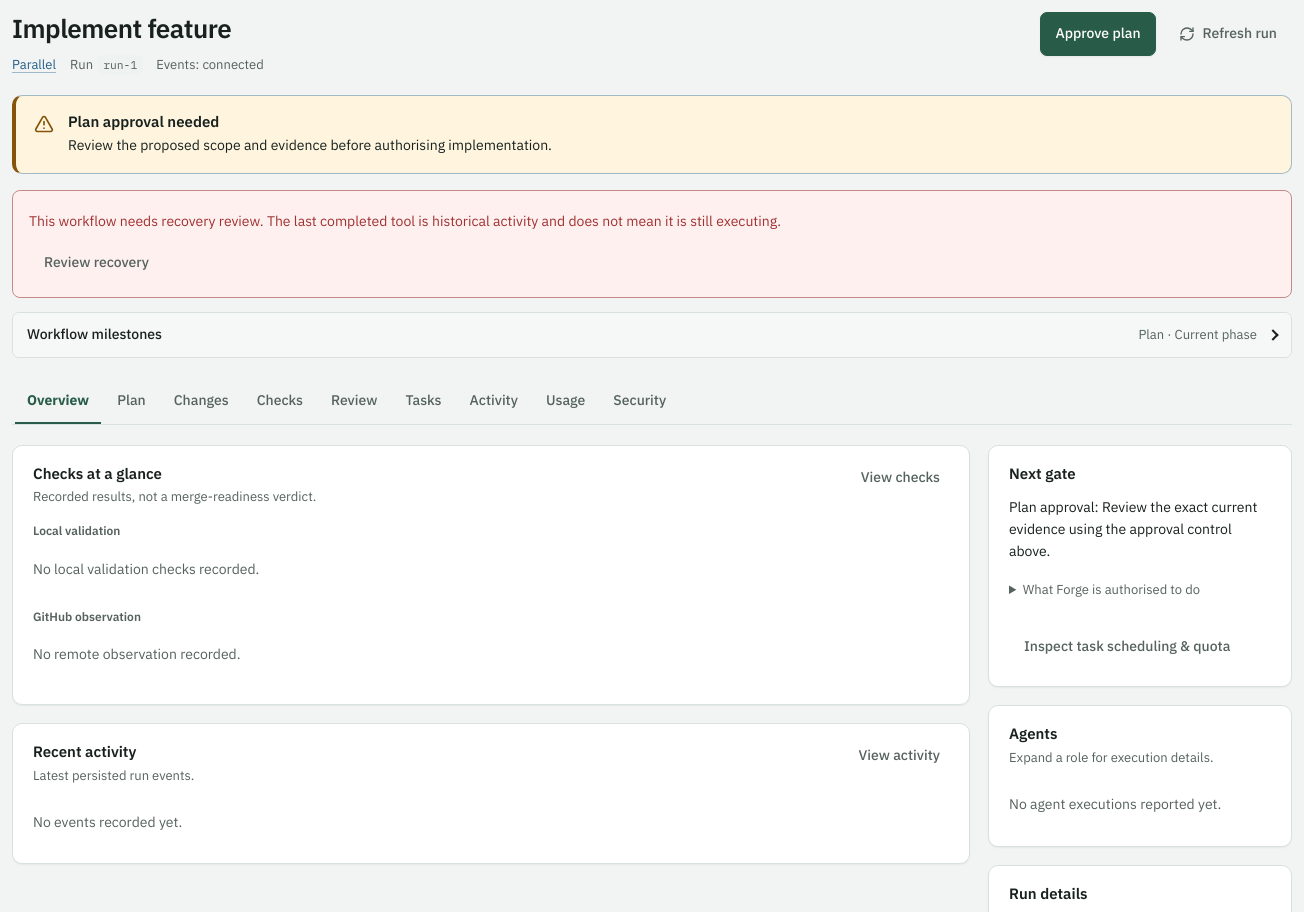
Test: saved workflow result attention stays visible on Overview and opens task recovery
The image size is (1304, 912).
Check: the message named "Workflow recovery attention" shows "workflow needs recovery review", box x1=29 y1=212 x2=781 y2=230
Check: the message named "Workflow recovery attention" shows "does not mean it is still executing", box x1=29 y1=212 x2=781 y2=230
Step 1. Click the button "Review recovery" → click(96, 263), box x1=29 y1=241 x2=164 y2=285
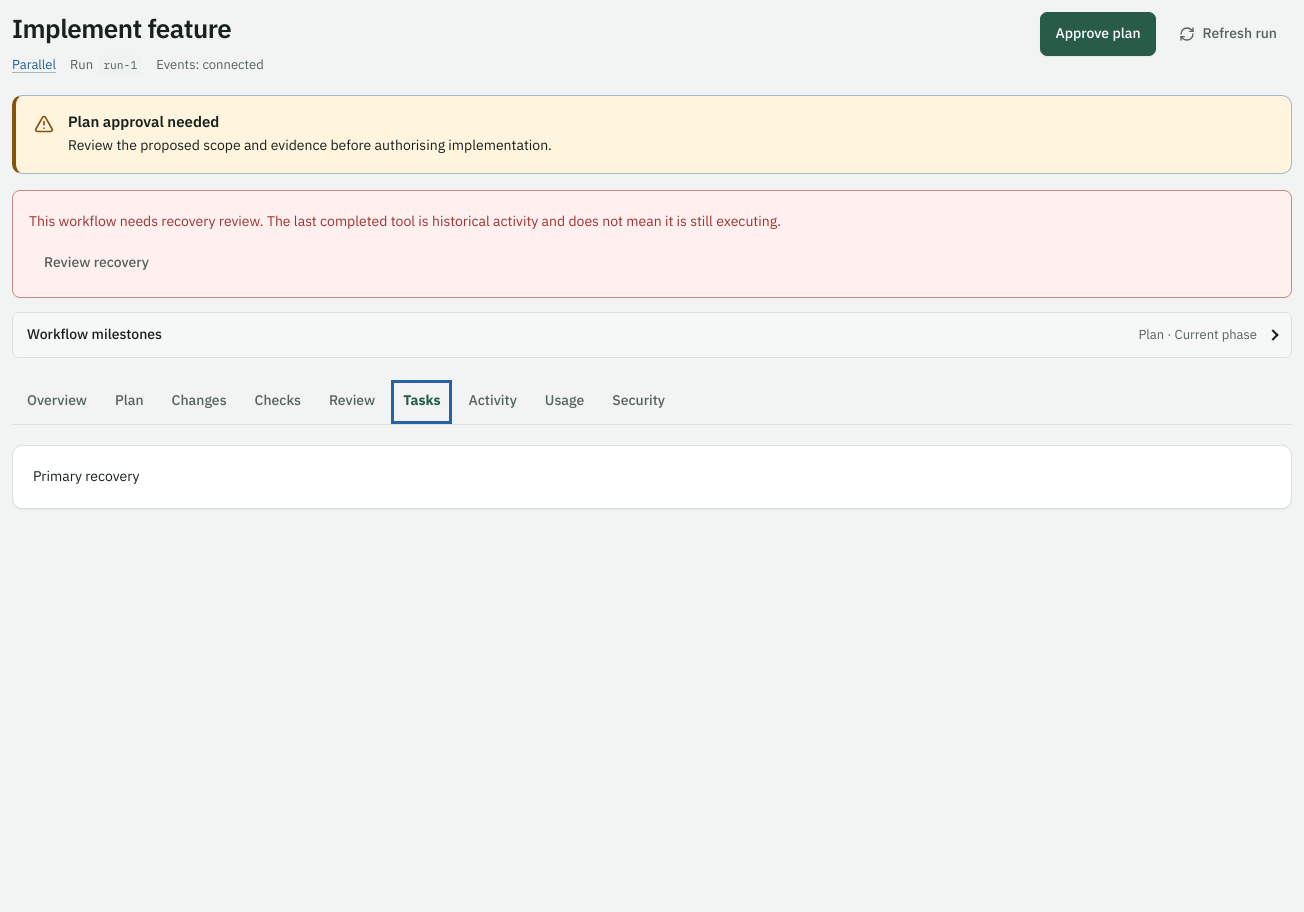
Check: the text named "Task recovery details" is shown, box x1=12 y1=445 x2=1292 y2=508
